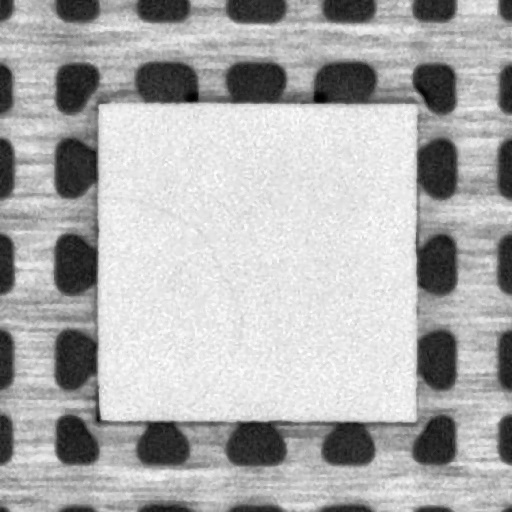DIE_CRACK: (100, 198, 242, 406)
